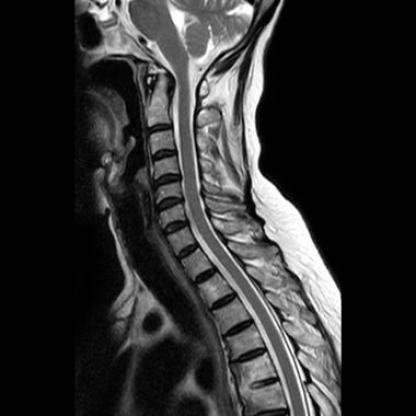Disc Bulgerotation: (153, 195, 187, 213), (160, 217, 190, 237), (150, 174, 182, 190)
